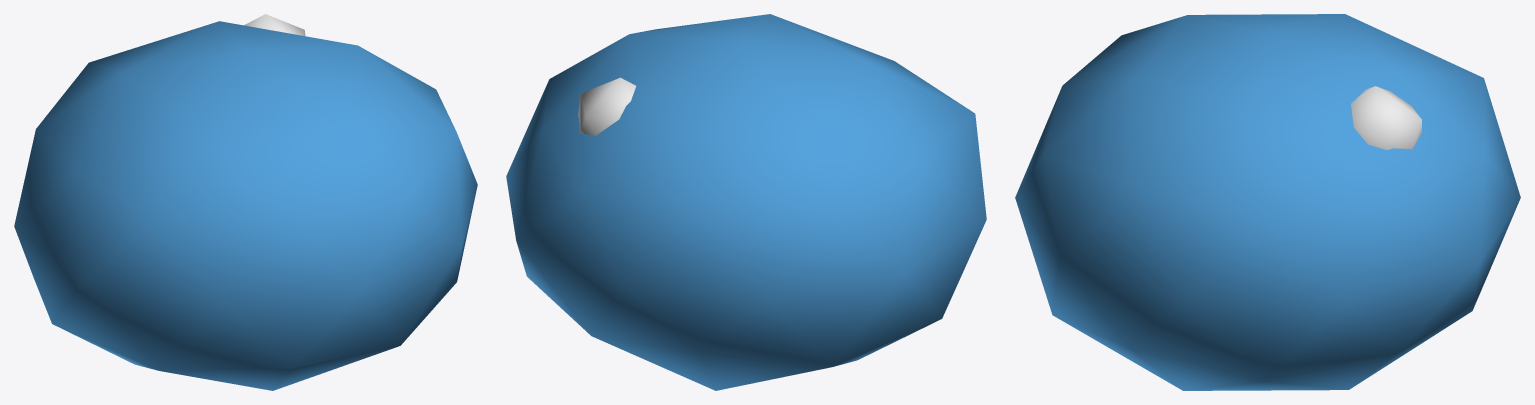
Rendered from gel.glb.
3 views of the same model, side by side, from view 1: azimuth 30°, elevation 25°; view 2: azimuth 150°, elevation 25°; view 3: azimuth 270°, elevation 25° (orthographic). The views are drawn at different scales.
Visible parts, largest first — view 1: gel_v0; view 2: gel_v0; view 3: gel_v0.
Boxes of the visible parts, bbox=[...] form: gel_v0: bbox=[14, 14, 477, 390]; gel_v0: bbox=[506, 14, 986, 390]; gel_v0: bbox=[1015, 14, 1520, 390].
Size of the model in its own units: 0.2261 by 0.163 by 0.2313.
